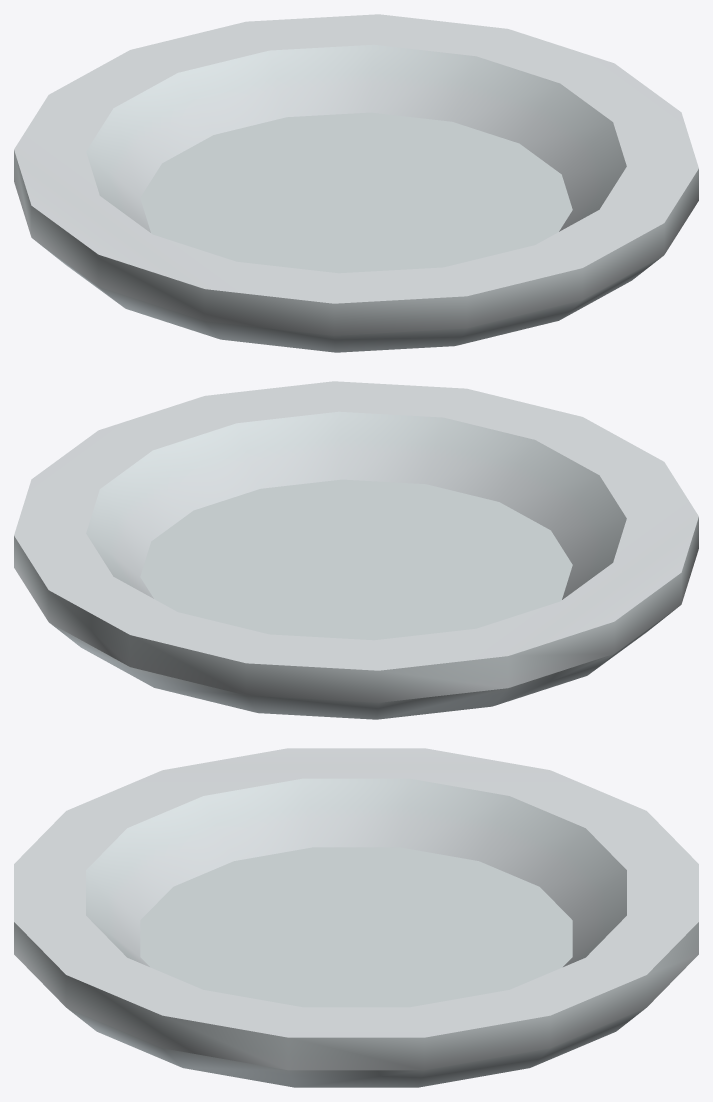
Rendered from plate.glb.
The picture shows the model from 3 angles, top to bottom: view 1: azimuth 30°, elevation 25°; view 2: azimuth 150°, elevation 25°; view 3: azimuth 270°, elevation 25°; orthographic projection.
Parts seen in each view (by area): view 1: plate; view 2: plate; view 3: plate.
Boxes of the visible parts, x1,y1,x2,y2 form: plate: [14, 14, 698, 352]; plate: [14, 381, 698, 719]; plate: [14, 748, 698, 1087].
Bounding box in the file's own units: 0.95 × 0.1 × 0.95.
Materials: 1 (1 with a texture image).
